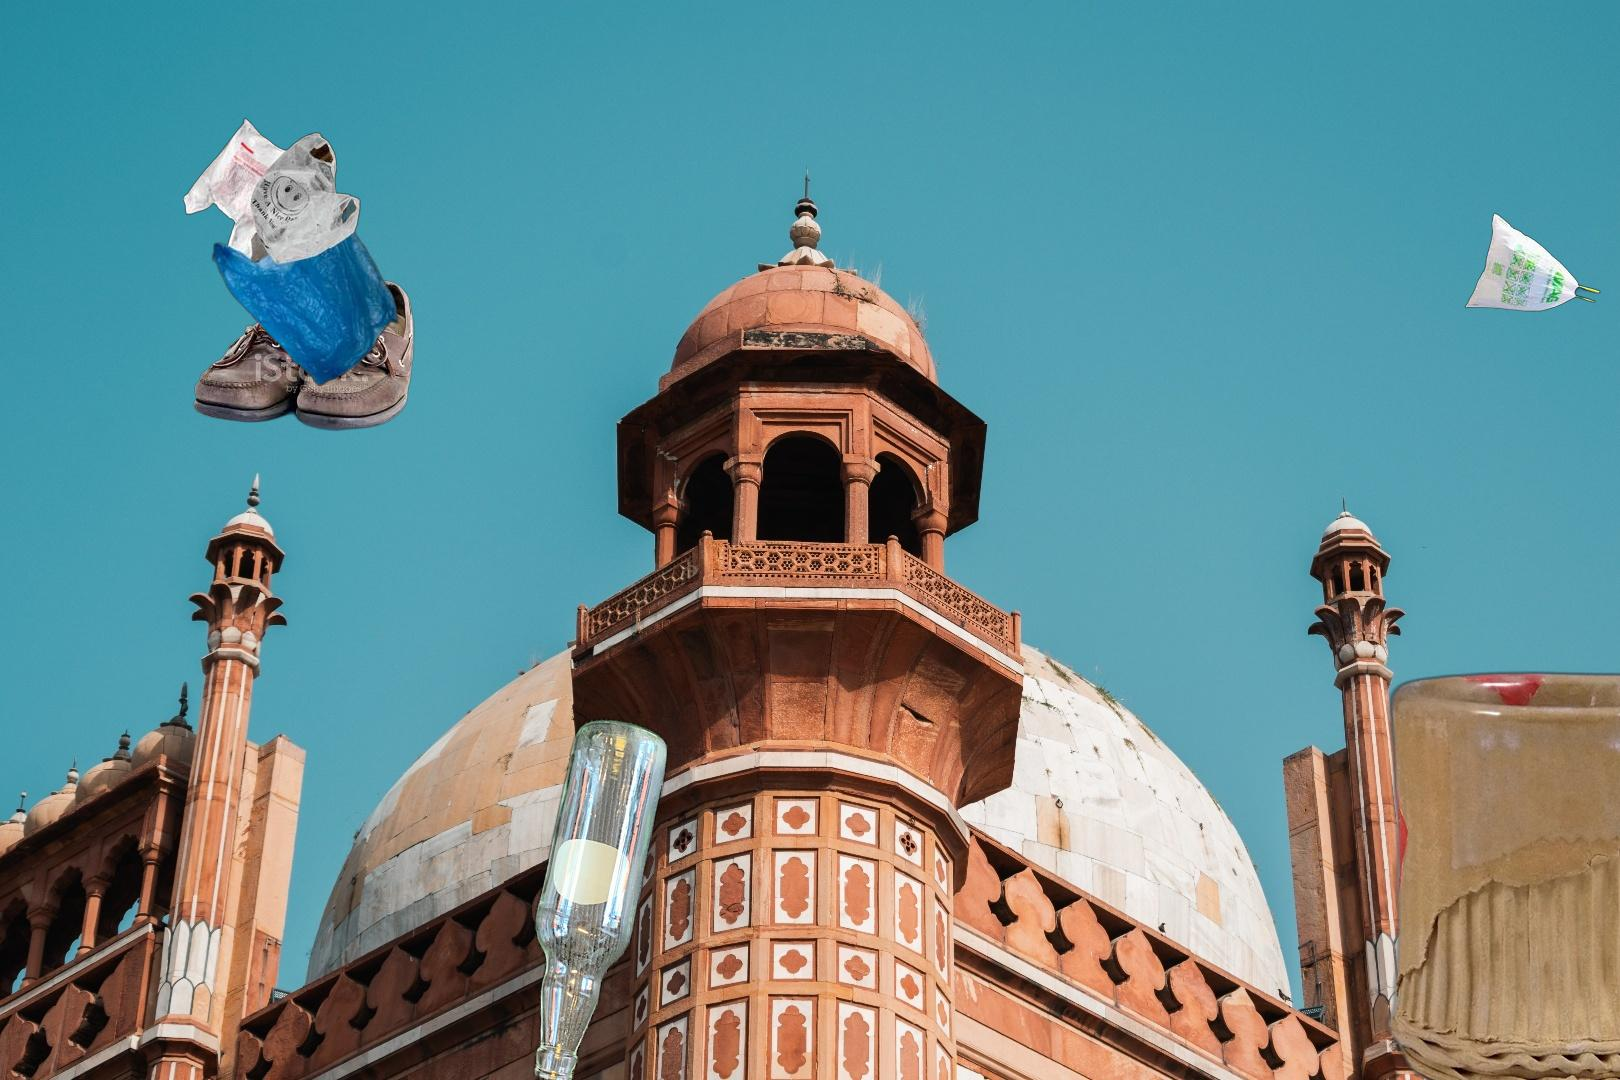glass: (529, 714, 673, 1080)
plastic-bag: (180, 115, 401, 389), (1465, 211, 1620, 352)
shoes: (190, 278, 417, 432)
trashbox-cardboard: (1375, 635, 1620, 1080)
